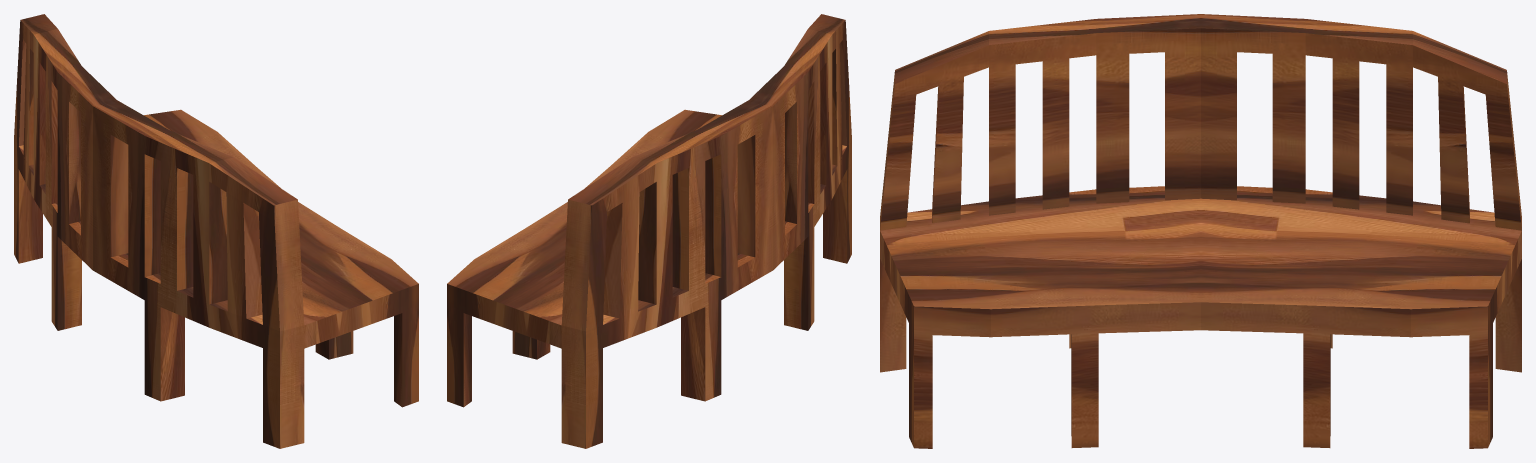
The model's file is cadeirapraca.fbx.
The picture shows the model from 3 angles, left to right: view 1: azimuth 30°, elevation 25°; view 2: azimuth 150°, elevation 25°; view 3: azimuth 270°, elevation 25°; orthographic projection. The views are drawn at different scales.
Parts seen in each view (by area): view 1: Cube; view 2: Cube; view 3: Cube.
Part boxes in pixels (left/top/right/bottom): Cube: left=14, top=14, right=418, bottom=448; Cube: left=447, top=14, right=851, bottom=448; Cube: left=880, top=14, right=1521, bottom=448.
Size of the model in its own units: 314 by 366 by 682.
